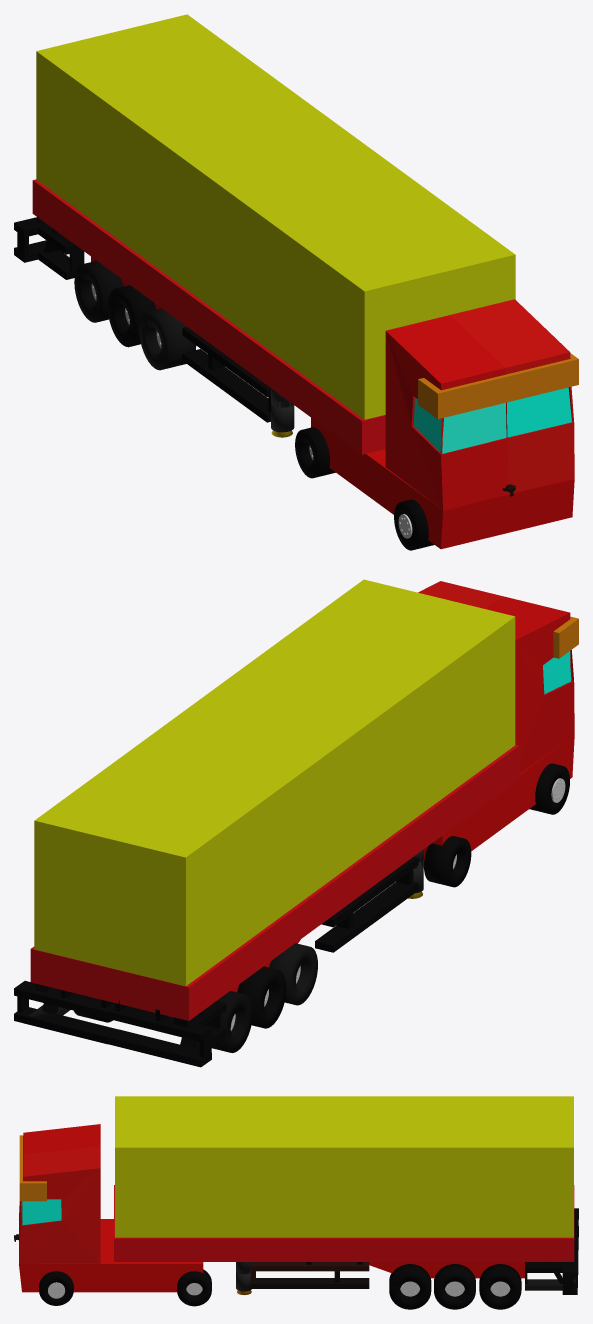
The model's file is Truck.obj.
The picture shows the model from 3 angles, top to bottom: view 1: azimuth 30°, elevation 25°; view 2: azimuth 150°, elevation 25°; view 3: azimuth 270°, elevation 25°; orthographic projection. The views are drawn at different scales.
Parts seen in each view (by area): view 1: Cube.001, Cube, Cube.006, Cube.002, Cube.004, Cube.003, Circle.015_Circle.028, Plane.002, Plane.003, Circle.011_Circle.024, Cube.017_Cube.019, Circle.013_Circle.026 (+5 smaller); view 2: Cube.001, Cube.006, Cube, Cube.002, Cube.017_Cube.019, Circle.013_Circle.026, Circle.015_Circle.028, Circle.016_Circle.029, Cube.039_Cube.042, Cube.032_Cube.034, Circle.011_Circle.024, Cube.040_Cube.043 (+6 smaller); view 3: Cube.001, Cube.006, Cube.004, Cube.002, Cube, Circle.004_Circle.017, Circle.008_Circle.021, Circle.006_Circle.019, Cube.008, Cube.007, Cube.005, Plane (+7 smaller).
Boxes of the visible parts, left/top/right/bottom form: Cube.001: left=36, top=14, right=515, bottom=419; Cube: left=385, top=315, right=508, bottom=510; Cube.006: left=32, top=179, right=385, bottom=454; Cube.002: left=311, top=417, right=574, bottom=549; Cube.004: left=451, top=299, right=574, bottom=494; Cube.003: left=418, top=353, right=578, bottom=419; Circle.015_Circle.028: left=139, top=308, right=196, bottom=370; Plane.002: left=442, top=403, right=506, bottom=453; Plane.003: left=507, top=387, right=571, bottom=437; Circle.011_Circle.024: left=74, top=260, right=123, bottom=322; Cube.017_Cube.019: left=182, top=349, right=270, bottom=422; Circle.013_Circle.026: left=107, top=285, right=156, bottom=347; Cube.001: left=34, top=579, right=515, bottom=986; Cube.006: left=30, top=744, right=519, bottom=1020; Cube: left=483, top=597, right=574, bottom=774; Cube.002: left=423, top=735, right=574, bottom=867; Cube.017_Cube.019: left=315, top=882, right=418, bottom=952; Circle.013_Circle.026: left=237, top=966, right=286, bottom=1028; Circle.015_Circle.028: left=269, top=943, right=317, bottom=1005; Circle.016_Circle.029: left=424, top=836, right=471, bottom=887; Cube.039_Cube.042: left=107, top=1029, right=211, bottom=1067; Cube.032_Cube.034: left=14, top=1007, right=117, bottom=1044; Circle.011_Circle.024: left=211, top=991, right=252, bottom=1052; Cube.040_Cube.043: left=107, top=1006, right=211, bottom=1041; Cube.001: left=115, top=1096, right=573, bottom=1237; Cube.006: left=114, top=1185, right=574, bottom=1261; Cube.004: left=19, top=1146, right=100, bottom=1263; Cube.002: left=19, top=1219, right=203, bottom=1292; Cube: left=19, top=1124, right=100, bottom=1233; Circle.004_Circle.017: left=389, top=1264, right=431, bottom=1309; Circle.008_Circle.021: left=479, top=1264, right=521, bottom=1309; Circle.006_Circle.019: left=434, top=1264, right=475, bottom=1309; Cube.008: left=250, top=1278, right=369, bottom=1288; Cube.007: left=250, top=1262, right=369, bottom=1271; Cube.005: left=369, top=1262, right=524, bottom=1278; Plane: left=22, top=1199, right=61, bottom=1224.
Bounding box in the file's own units: 3.1 × 3.65 × 11.58.
